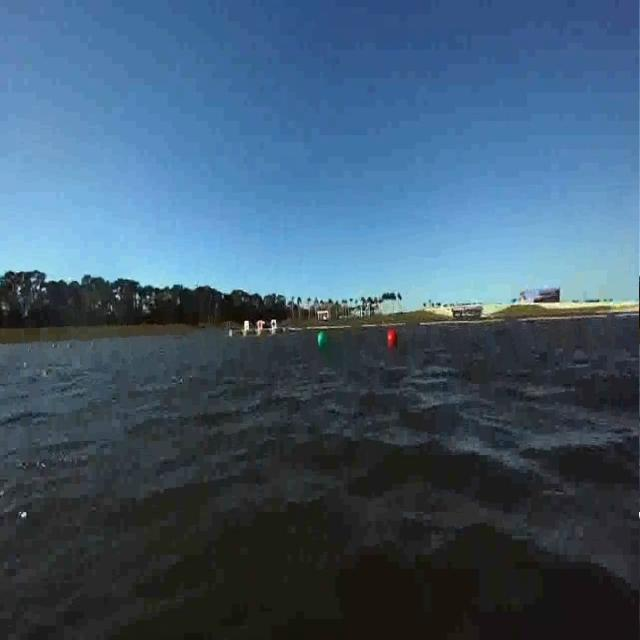green-buoy: (317, 333, 328, 348)
red-buoy: (388, 328, 397, 342)
